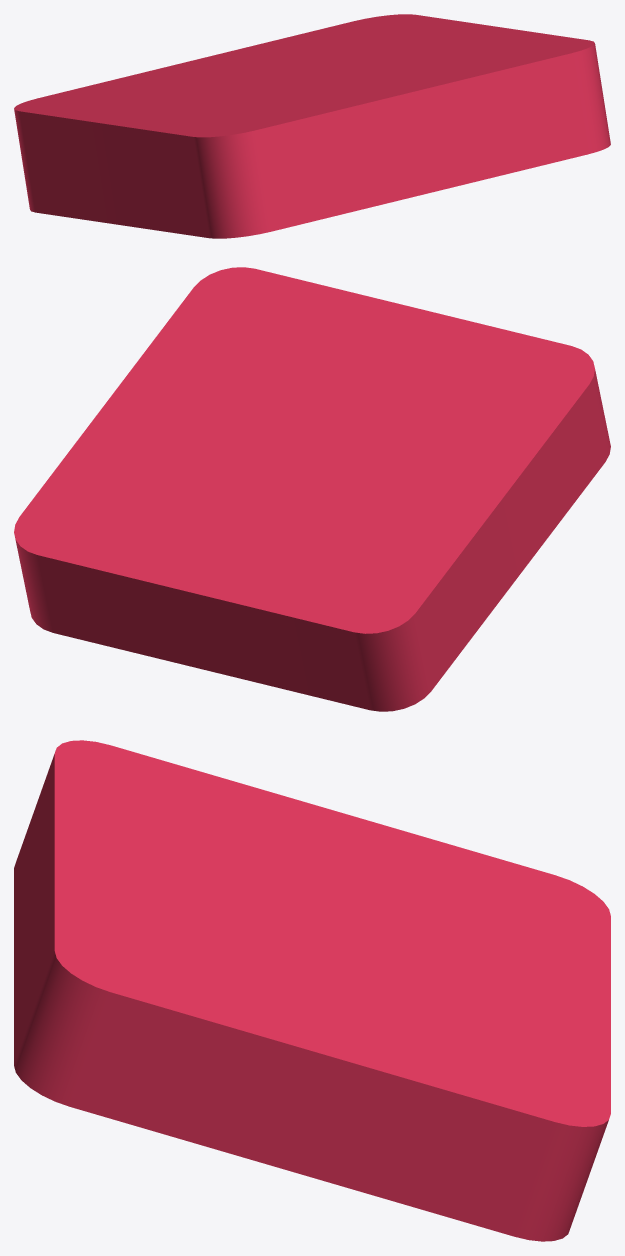
The model's file is A_ecrin_haut.gltf.
3 views of the same model, one above another, from view 1: azimuth 30°, elevation 25°; view 2: azimuth 150°, elevation 25°; view 3: azimuth 270°, elevation 25° (orthographic). The views are drawn at different scales.
Parts seen in each view (by area): view 1: objetHaut; view 2: objetHaut; view 3: objetHaut.
Part boxes in pixels (<box>): objetHaut: <box>14,14,610,238</box>; objetHaut: <box>14,267,610,711</box>; objetHaut: <box>14,740,610,1241</box>.
Bounding box in the file's own units: 2.55 × 1.33 × 2.6.
